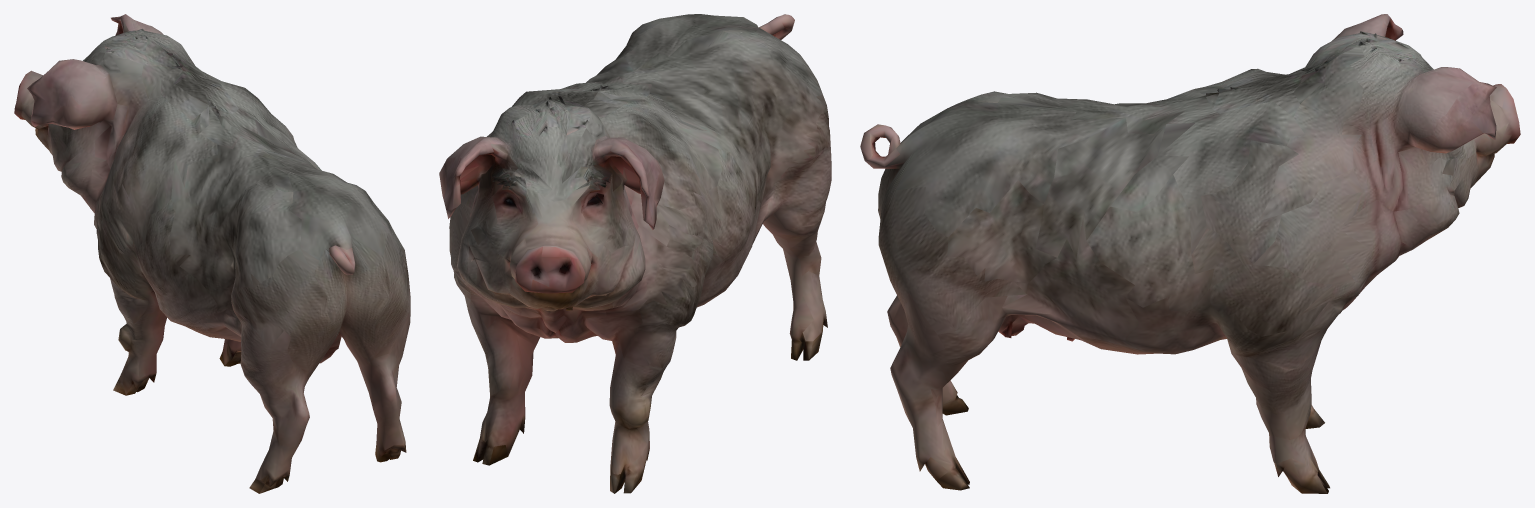
The model's file is maiale_macchiato_lod.gltf.
3 renders of one model, left to right at view 1: azimuth 30°, elevation 25°; view 2: azimuth 150°, elevation 25°; view 3: azimuth 270°, elevation 25°, orthographic. The views are drawn at different scales.
Parts seen in each view (by area): view 1: animal; view 2: animal; view 3: animal.
Boxes of the visible parts, left/top/right/bottom form: animal: left=14, top=14, right=410, bottom=493; animal: left=439, top=14, right=831, bottom=493; animal: left=860, top=14, right=1520, bottom=493.
Size of the model in its own units: 0.6207 by 0.9205 by 1.35.
1 material, 1 textured.
